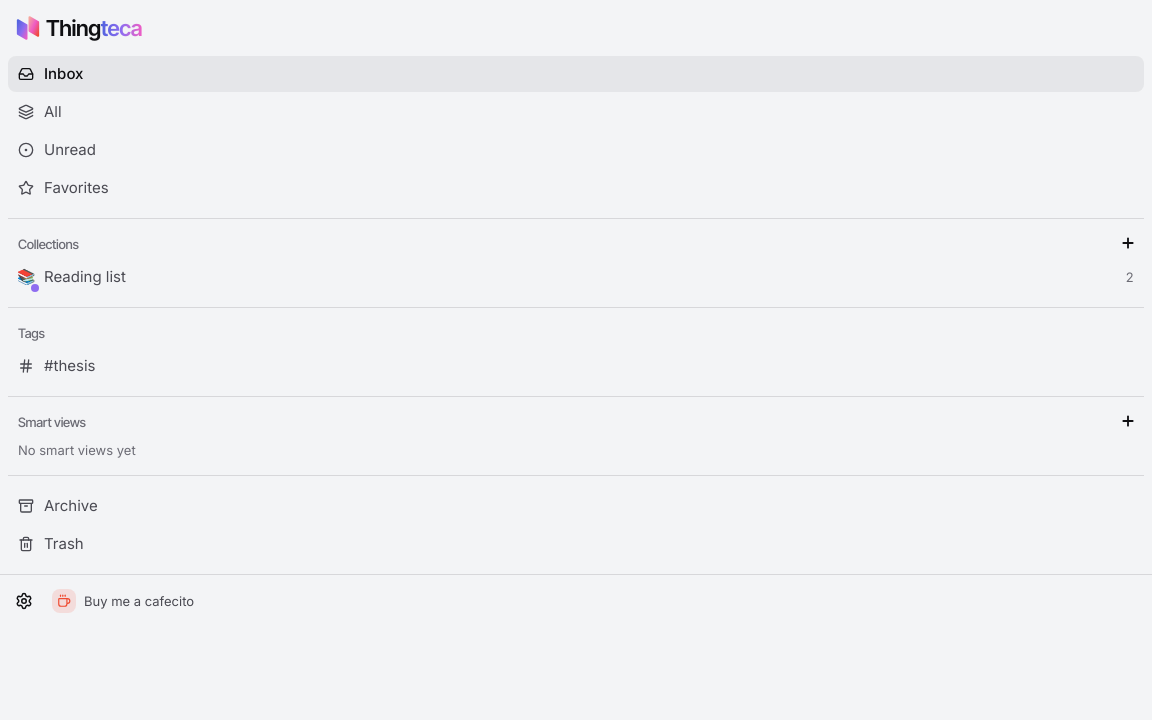
new collection › creates with a name, an emoji and a color from the dialog
This screenshot has width=1152, height=720.
Click the button named "New collection" at (1128, 243), box [1116,231,1140,255]
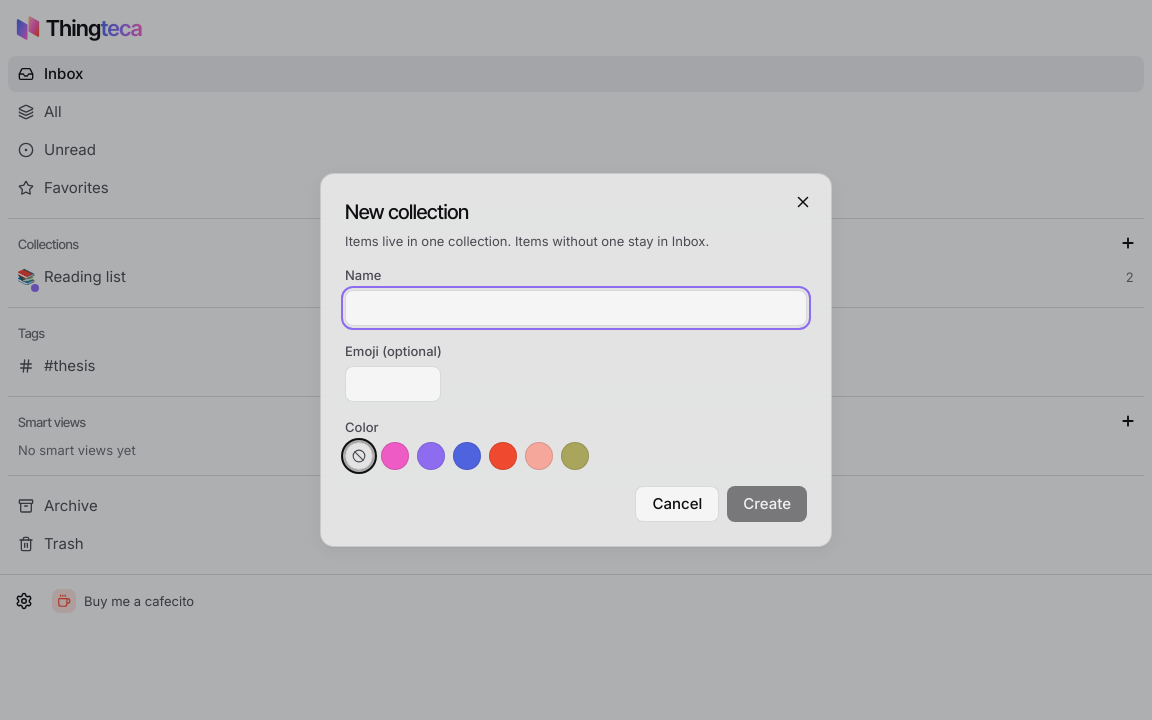
Expected: the button "Create" is disabled, [727,486,807,522]
Type "  Ideas " into the field labelled "Name" at (576, 308), box [345,290,807,326]
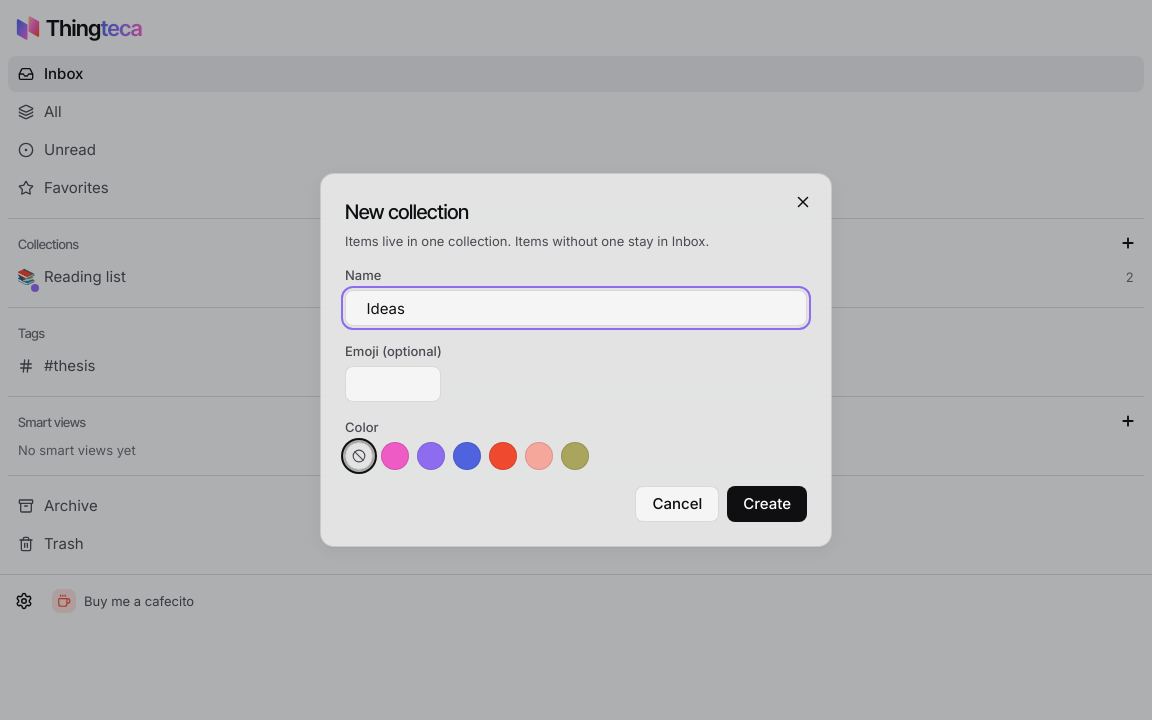
Type "💡" into the field labelled "Emoji (optional)" at (393, 384), box [345,366,441,402]
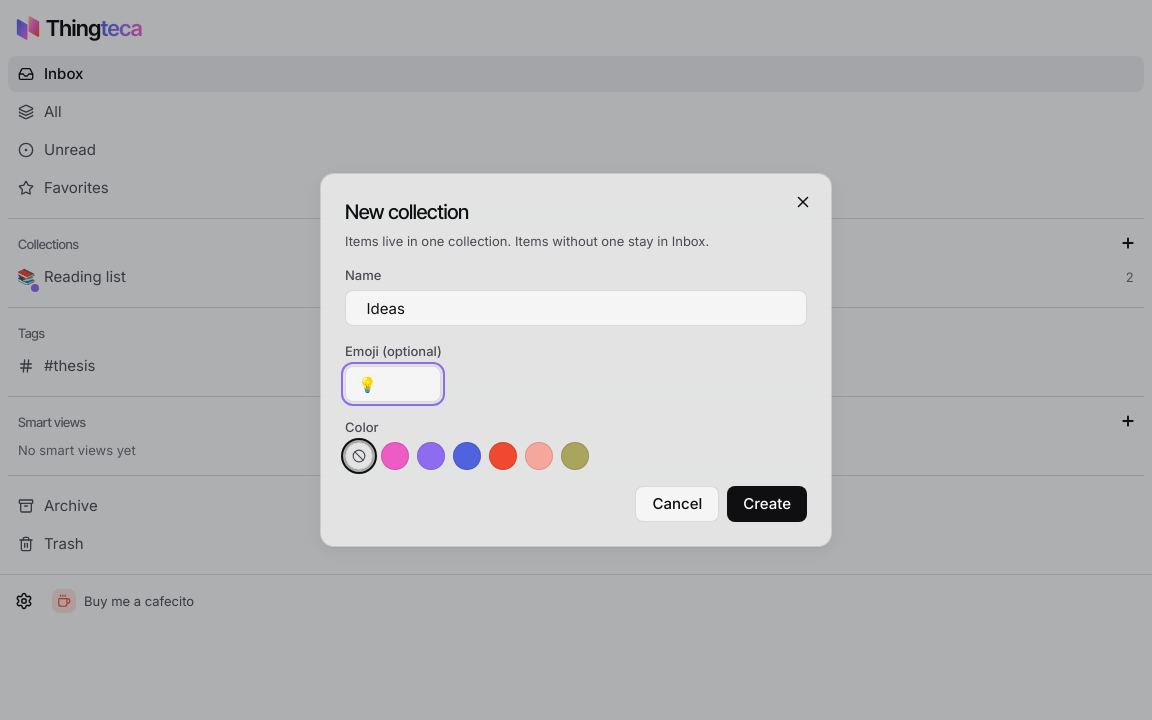
Click the radio button named "Blue" at (467, 456), box [453,442,481,470]
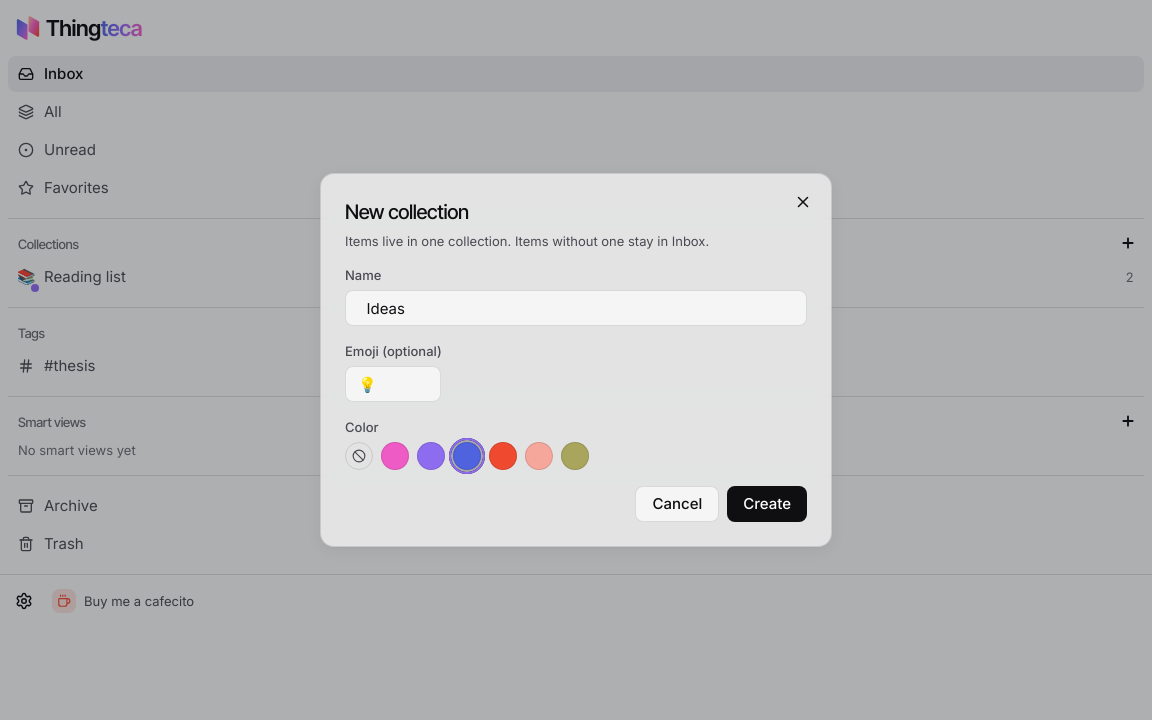
Expected: the radio button named "None" is not checked, [345,442,373,470]
Click the button "Create" at (767, 504), box [727,486,807,522]
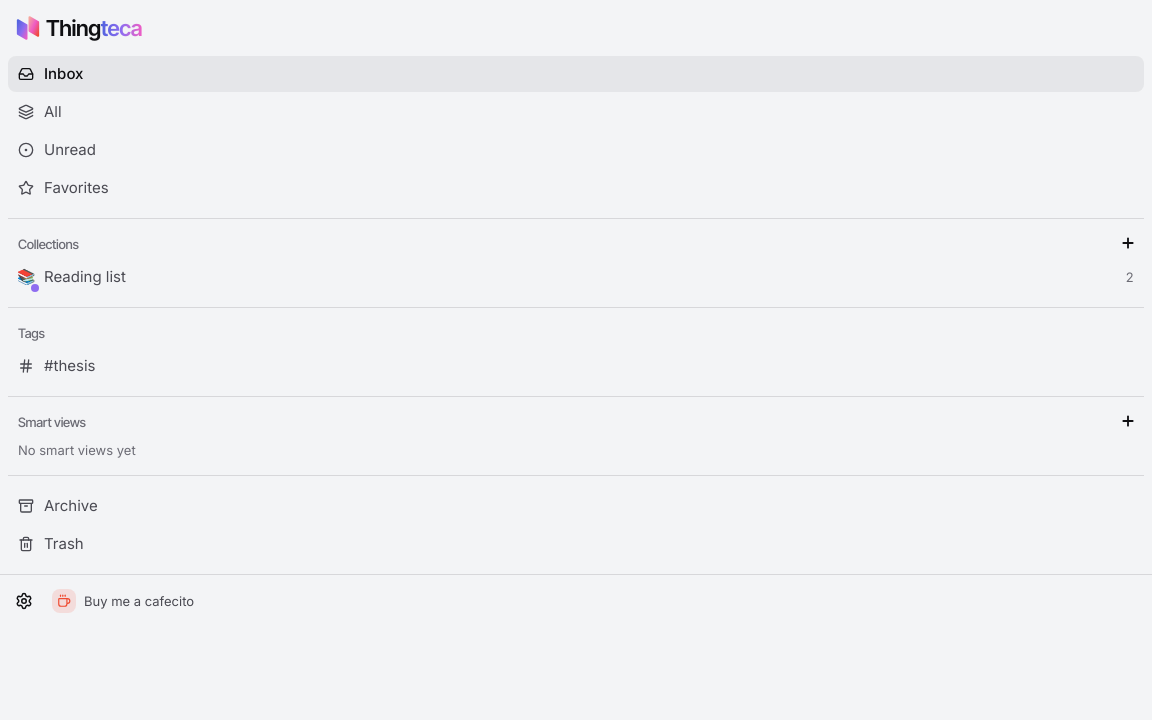
Expected: the dialog is gone
